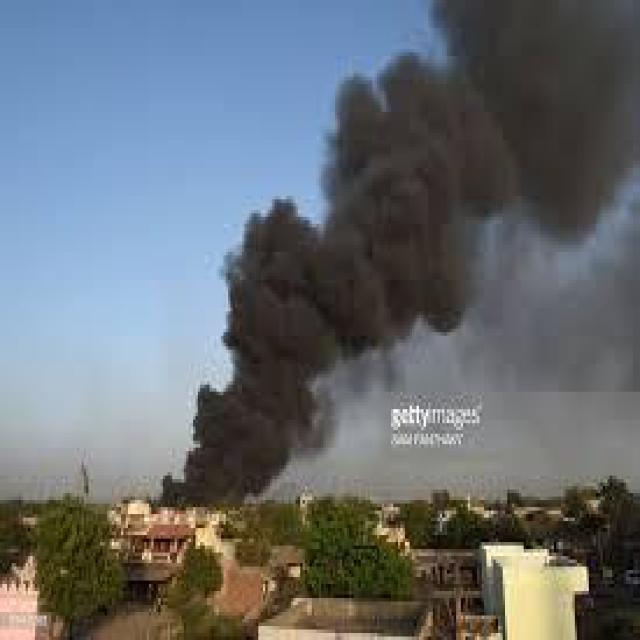Smoke: (337, 0, 640, 327), (152, 200, 344, 498)
